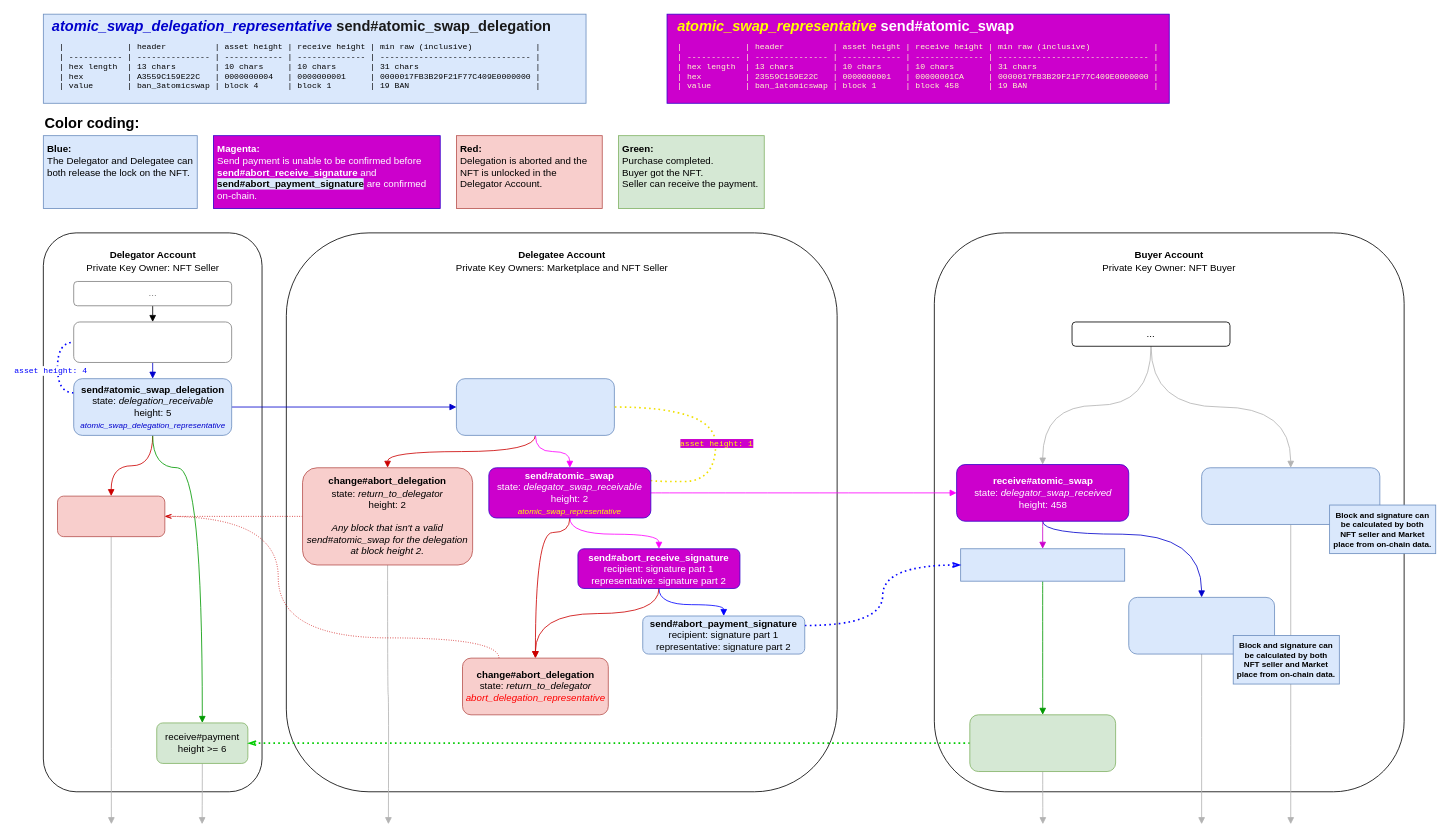
This 1450x838 diagram has some shape labels left out. Here are the shapes that lost their labels. From the top down, the centre of each, then its label:
the point at 152,341: receive#asset height: 4
the point at 535,406: receive#atomic_swap_delegation state: delegation_received height: 1
the point at 1290,495: change#abort_receive_atomic_swap state: return_to_delegatee height: 458
the point at 111,516: ... height: 6
the point at 1042,564: wait for signatures confirmation
the point at 1201,625: change#abort_payment state: return_to_delegatee height: 459
the point at 1042,743: send#payment state: ownership height: 459 raw >= min raw
